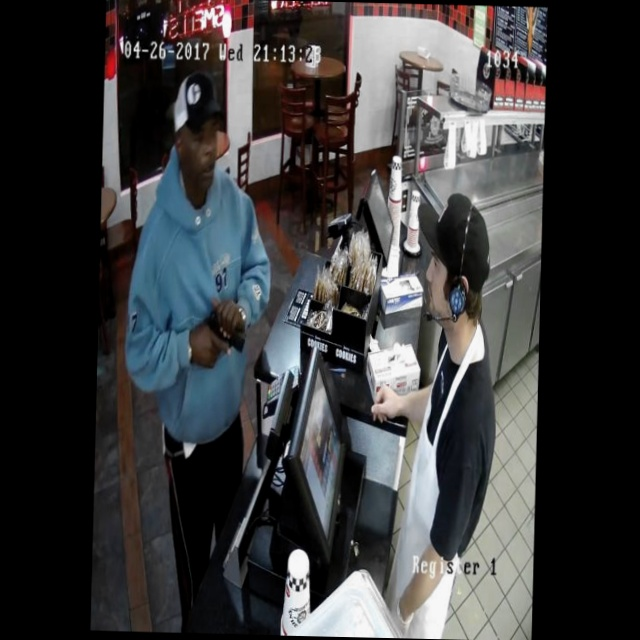gun: (192, 293, 258, 373)
